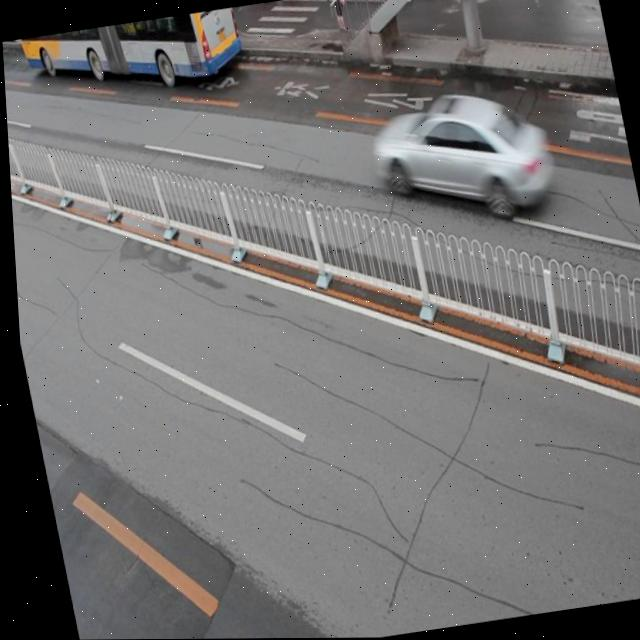car: (366, 81, 558, 234)
van: (20, 8, 249, 112)
